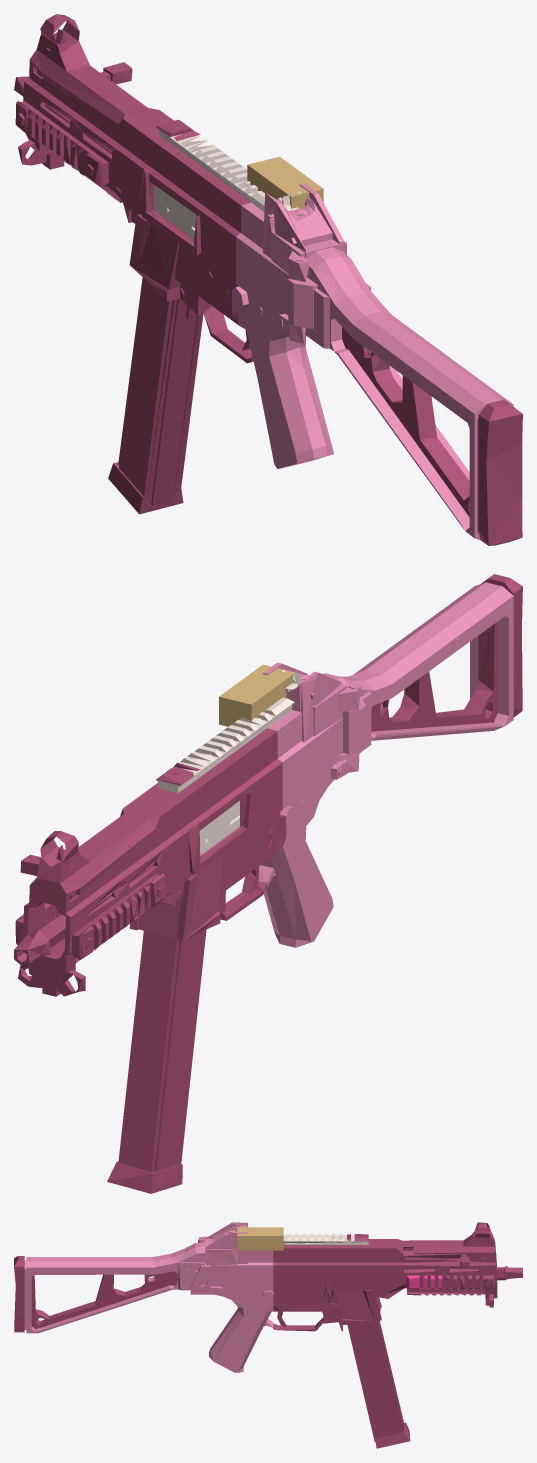
File: SMG_UMP45.obj
3 views of the same model, one above another, from view 1: azimuth 30°, elevation 25°; view 2: azimuth 150°, elevation 25°; view 3: azimuth 270°, elevation 25° (orthographic). The views are drawn at different scales.
Visible parts, largest first — view 1: Mag, Body, Grip, Panel, Bolt; view 2: Mag, Body, Grip, Panel, Bolt; view 3: Mag, Body, Grip, Bolt, Panel, Accent.
Part boxes in pixels (bbox=[...]): Mag: bbox=[14, 14, 253, 514]; Body: bbox=[232, 183, 513, 539]; Grip: bbox=[342, 327, 522, 545]; Panel: bbox=[154, 129, 301, 238]; Bolt: bbox=[247, 156, 323, 208]; Mag: bbox=[14, 728, 285, 1193]; Body: bbox=[258, 582, 513, 947]; Grip: bbox=[371, 574, 522, 731]; Panel: bbox=[156, 670, 301, 855]; Bolt: bbox=[219, 664, 295, 726]; Mag: bbox=[273, 1222, 522, 1448]; Body: bbox=[24, 1222, 273, 1372]; Grip: bbox=[14, 1256, 177, 1332]; Bolt: bbox=[237, 1227, 283, 1250]; Panel: bbox=[238, 1226, 368, 1244]; Accent: bbox=[407, 1275, 442, 1289].
Size of the model in its own units: 0.2312 by 1.05 by 2.2.
